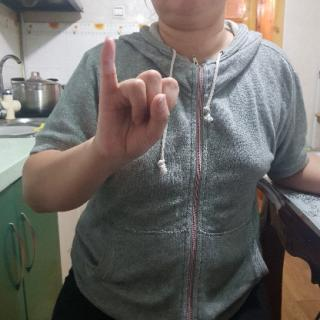MEEM: (89, 34, 182, 163)
